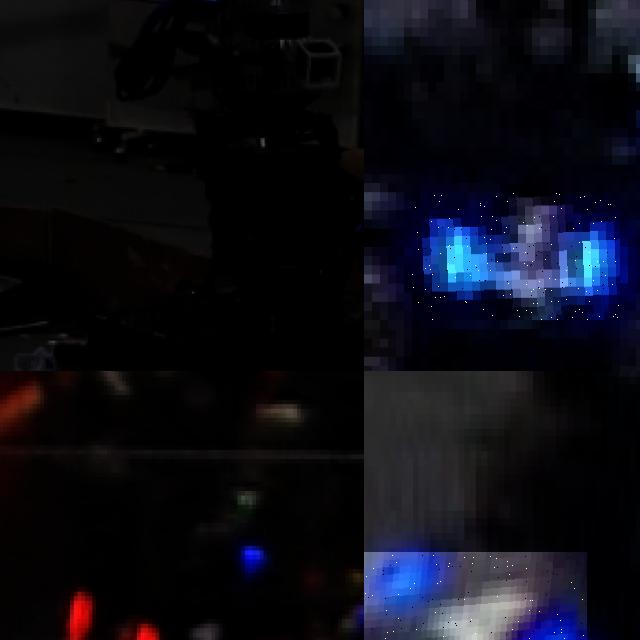B4: (412, 192, 620, 320), (364, 551, 587, 640)
R1: (109, 603, 280, 640)
